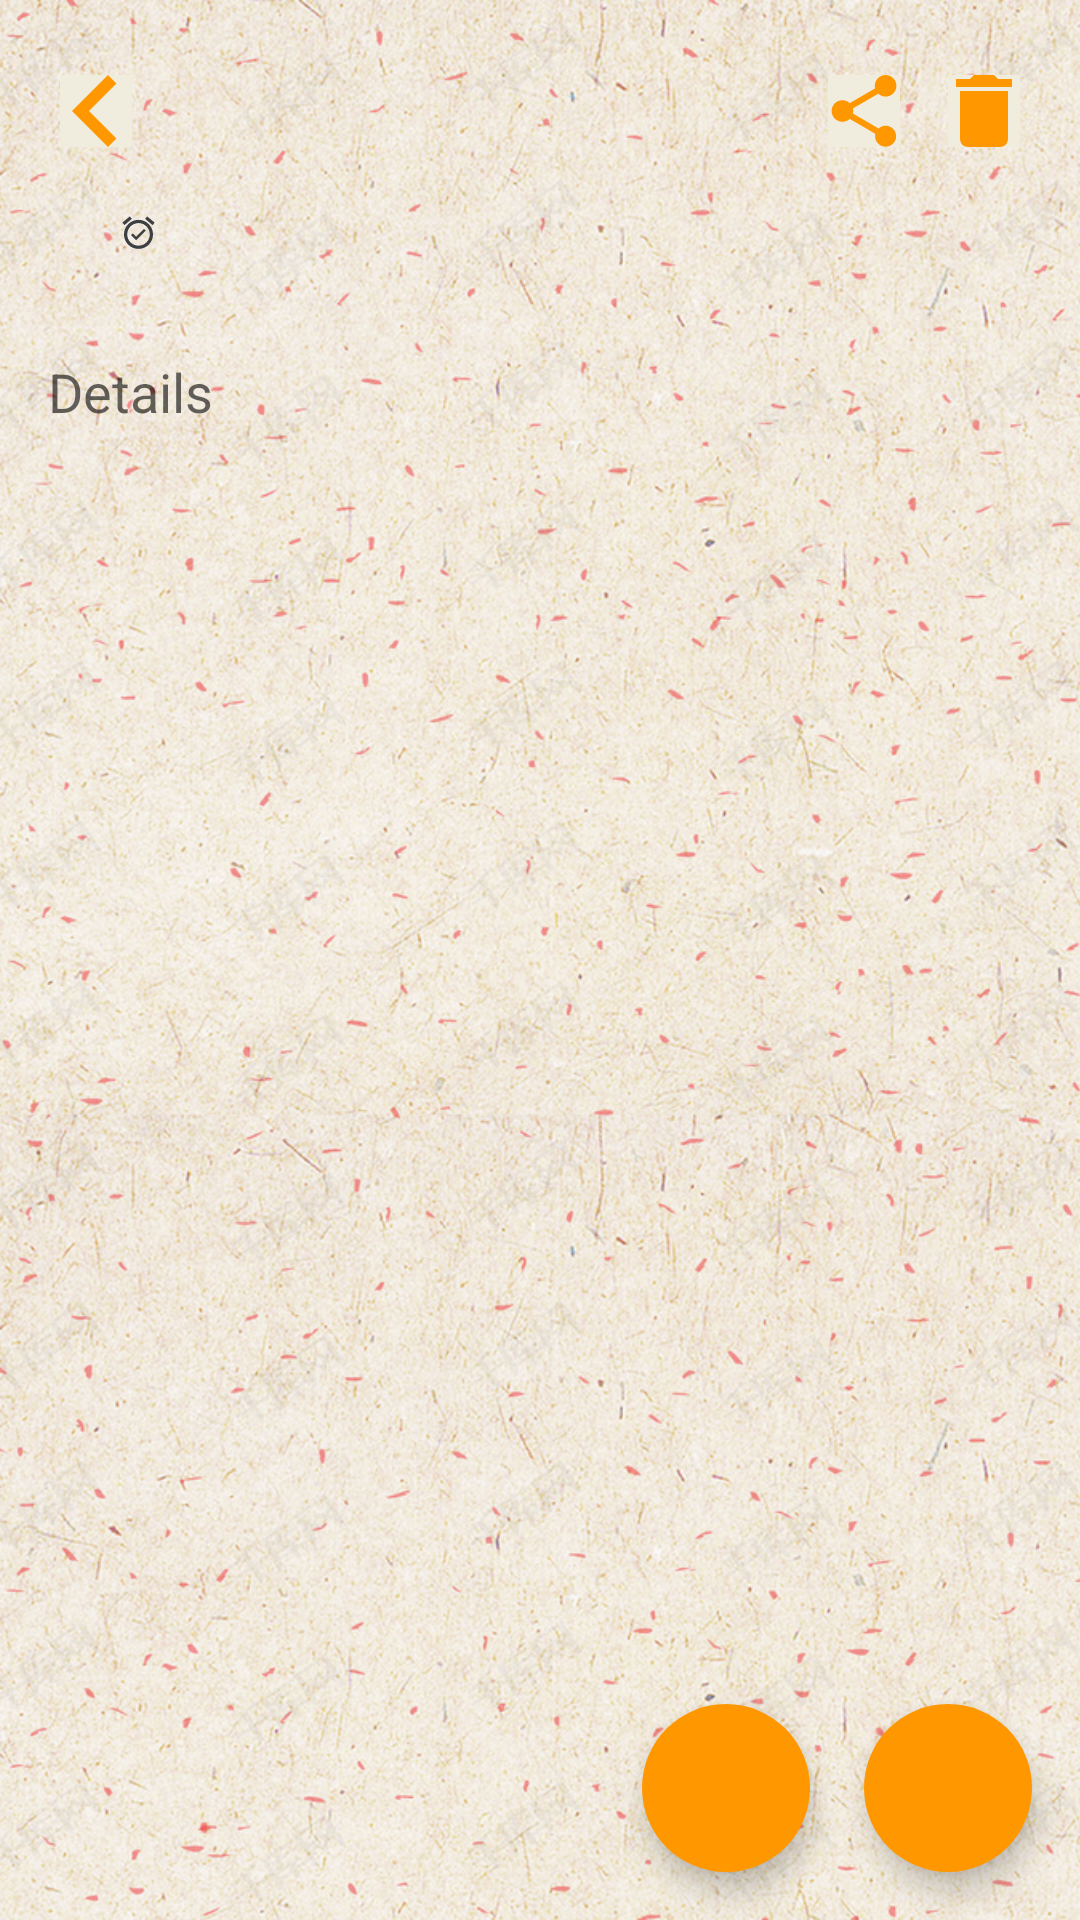

Named icons in this screenshot (1080 × 1920) and their centers, point (x, y):
back: point (94, 111)
delete: point (984, 119)
share: point (864, 111)
